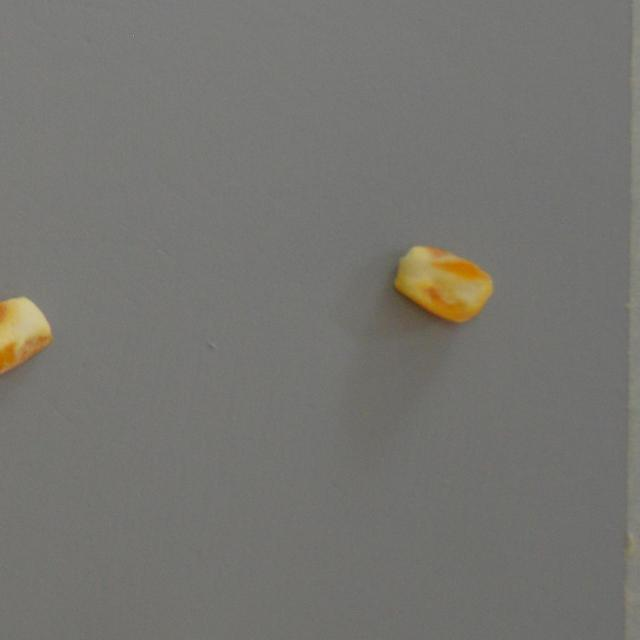pelicula: (391, 241, 496, 326), (0, 294, 52, 378)
